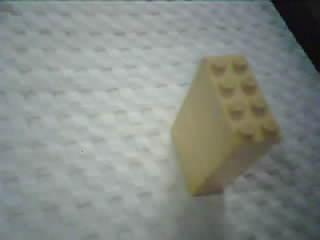lego: (166, 51, 283, 199)
